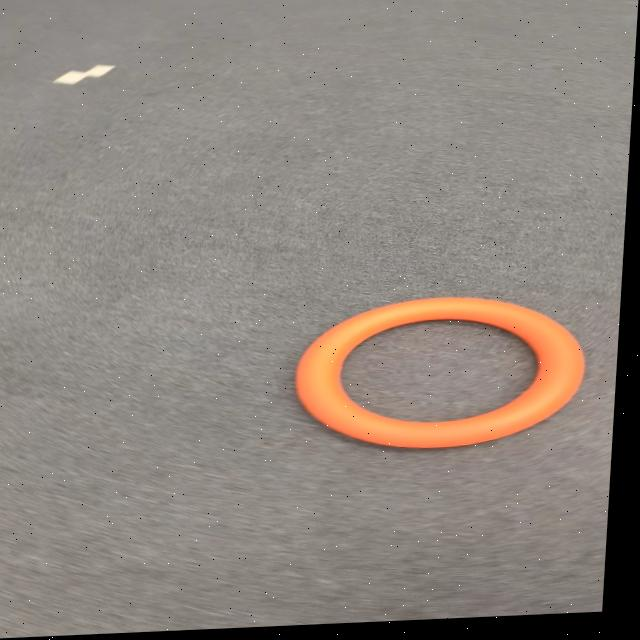note: (300, 299, 597, 458)
